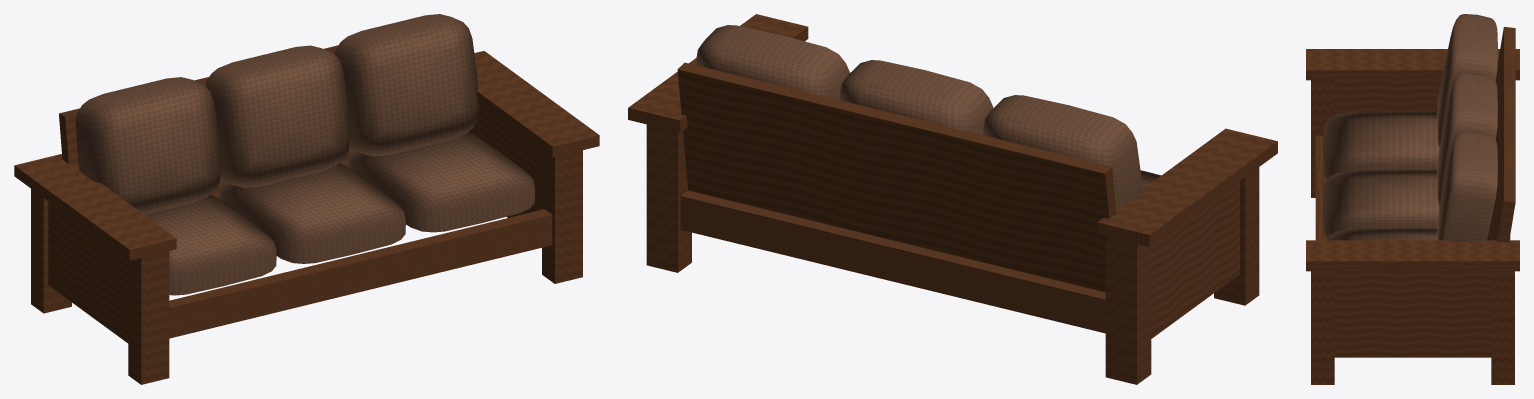
3 views of the same model, side by side, from view 1: azimuth 30°, elevation 25°; view 2: azimuth 150°, elevation 25°; view 3: azimuth 270°, elevation 25° (orthographic). The views are drawn at different scales.
Parts seen in each view (by area): view 1: 16 center_back_cushion, 17 right_back_cushion, 15 left_back_cushion, 9 front_rail, 13 center_seat_cushion, 14 right_seat_cushion, 12 left_seat_cushion, 5 left_armrest, 7 left_side_panel, 6 right_armrest, 1 front_left_leg, 2 front_right_leg (+3 smaller); view 2: 11 backrest_frame, 10 back_rail, 5 left_armrest, 7 left_side_panel, 15 left_back_cushion, 17 right_back_cushion, 16 center_back_cushion, 3 back_left_leg, 4 back_right_leg, 6 right_armrest, 1 front_left_leg; view 3: 8 right_side_panel, 12 left_seat_cushion, 13 center_seat_cushion, 6 right_armrest, 17 right_back_cushion, 5 left_armrest, 11 backrest_frame, 16 center_back_cushion, 15 left_back_cushion, 7 left_side_panel, 2 front_right_leg, 4 back_right_leg (+3 smaller).
Boxes of the visible parts, x1,y1,x2,y2 form: 16 center_back_cushion: [205, 45, 349, 187]; 17 right_back_cushion: [335, 14, 479, 156]; 15 left_back_cushion: [75, 77, 220, 214]; 9 front_rail: [169, 209, 552, 338]; 13 center_seat_cushion: [218, 163, 405, 263]; 14 right_seat_cushion: [347, 132, 535, 232]; 12 left_seat_cushion: [144, 195, 276, 295]; 5 left_armrest: [14, 154, 176, 260]; 7 left_side_panel: [48, 201, 128, 343]; 6 right_armrest: [474, 51, 599, 157]; 1 front_left_leg: [128, 251, 169, 384]; 2 front_right_leg: [542, 150, 582, 283]; 11 backrest_frame: [677, 62, 1116, 292]; 10 back_rail: [680, 190, 1105, 333]; 5 left_armrest: [1097, 128, 1277, 246]; 7 left_side_panel: [1151, 181, 1239, 338]; 15 left_back_cushion: [983, 95, 1142, 208]; 17 right_back_cushion: [696, 25, 849, 100]; 16 center_back_cushion: [839, 60, 993, 135]; 3 back_left_leg: [1105, 236, 1151, 384]; 4 back_right_leg: [646, 124, 691, 272]; 6 right_armrest: [628, 14, 808, 132]; 1 front_left_leg: [1214, 167, 1259, 305]; 8 right_side_panel: [1334, 271, 1491, 357]; 12 left_seat_cushion: [1322, 111, 1439, 178]; 13 center_seat_cushion: [1322, 170, 1439, 237]; 6 right_armrest: [1306, 240, 1519, 271]; 17 right_back_cushion: [1437, 130, 1497, 241]; 5 left_armrest: [1306, 49, 1519, 80]; 11 backrest_frame: [1487, 26, 1515, 242]; 16 center_back_cushion: [1437, 72, 1497, 206]; 15 left_back_cushion: [1437, 14, 1497, 147]; 7 left_side_panel: [1334, 80, 1441, 115]; 2 front_right_leg: [1311, 271, 1334, 384]; 4 back_right_leg: [1491, 271, 1514, 384].
Bounding box in the file's own units: 2.35 × 1 × 1.
Materials: 2 (2 with a texture image).
